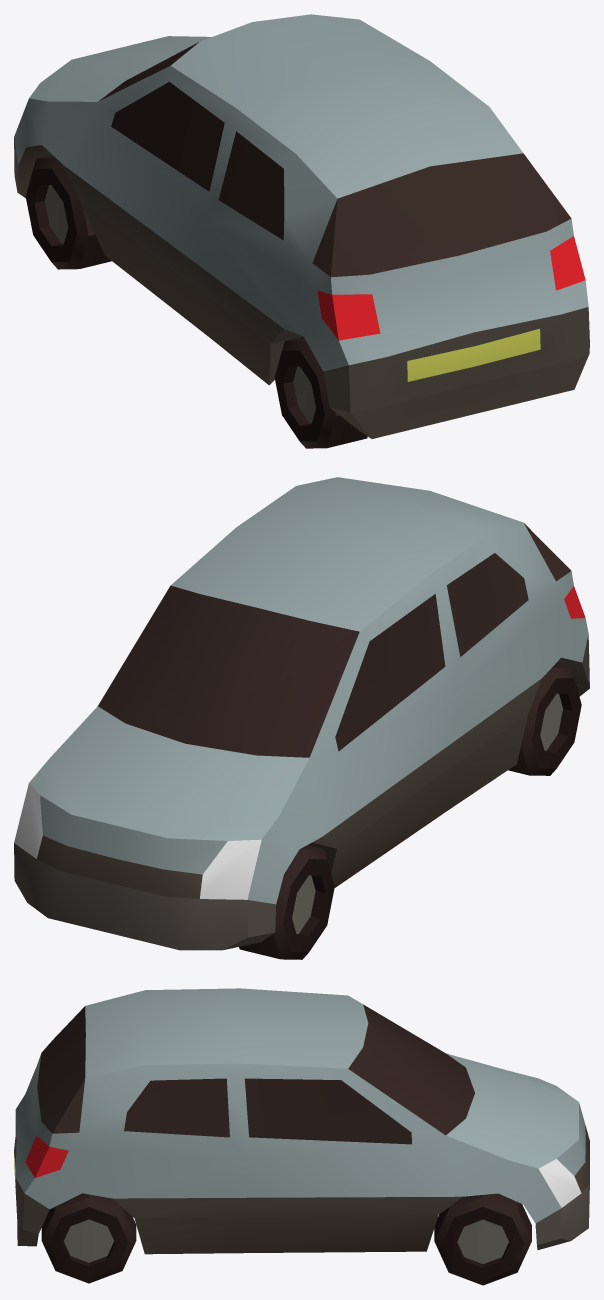
Rendered from ShibuyaCar5b.obj.
3 views of the same model, one above another, from view 1: azimuth 30°, elevation 25°; view 2: azimuth 150°, elevation 25°; view 3: azimuth 270°, elevation 25° (orthographic). The views are drawn at different scales.
Visible parts, largest first — view 1: Car_Carrosserie, Car_Base; view 2: Car_Carrosserie, Car_Base; view 3: Car_Carrosserie, Car_Base.
Boxes of the visible parts, x1=… form: Car_Carrosserie: x1=14, y1=14, x2=588, y2=371; Car_Base: x1=14, y1=42, x2=589, y2=448; Car_Carrosserie: x1=29, y1=477, x2=588, y2=904; Car_Base: x1=14, y1=523, x2=589, y2=959; Car_Carrosserie: x1=15, y1=988, x2=585, y2=1223; Car_Base: x1=14, y1=1004, x2=589, y2=1285.
Bounding box in the file's own units: 1.94 × 1.98 × 4.67.
Materials: 1 (1 with a texture image).
